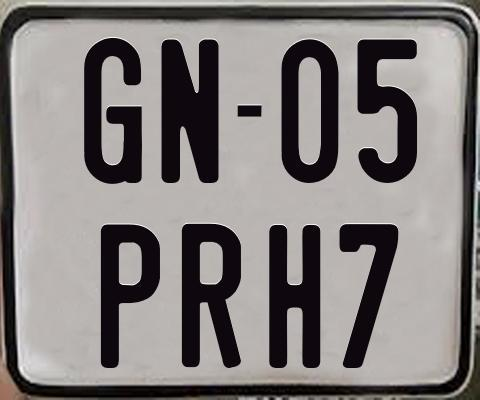0: (281, 37, 342, 187)
5: (357, 39, 423, 189)
7: (336, 222, 398, 366)
G: (82, 38, 140, 190)
H: (266, 224, 317, 367)
N: (160, 38, 223, 187)
P: (98, 221, 163, 370)
R: (180, 222, 245, 368)
